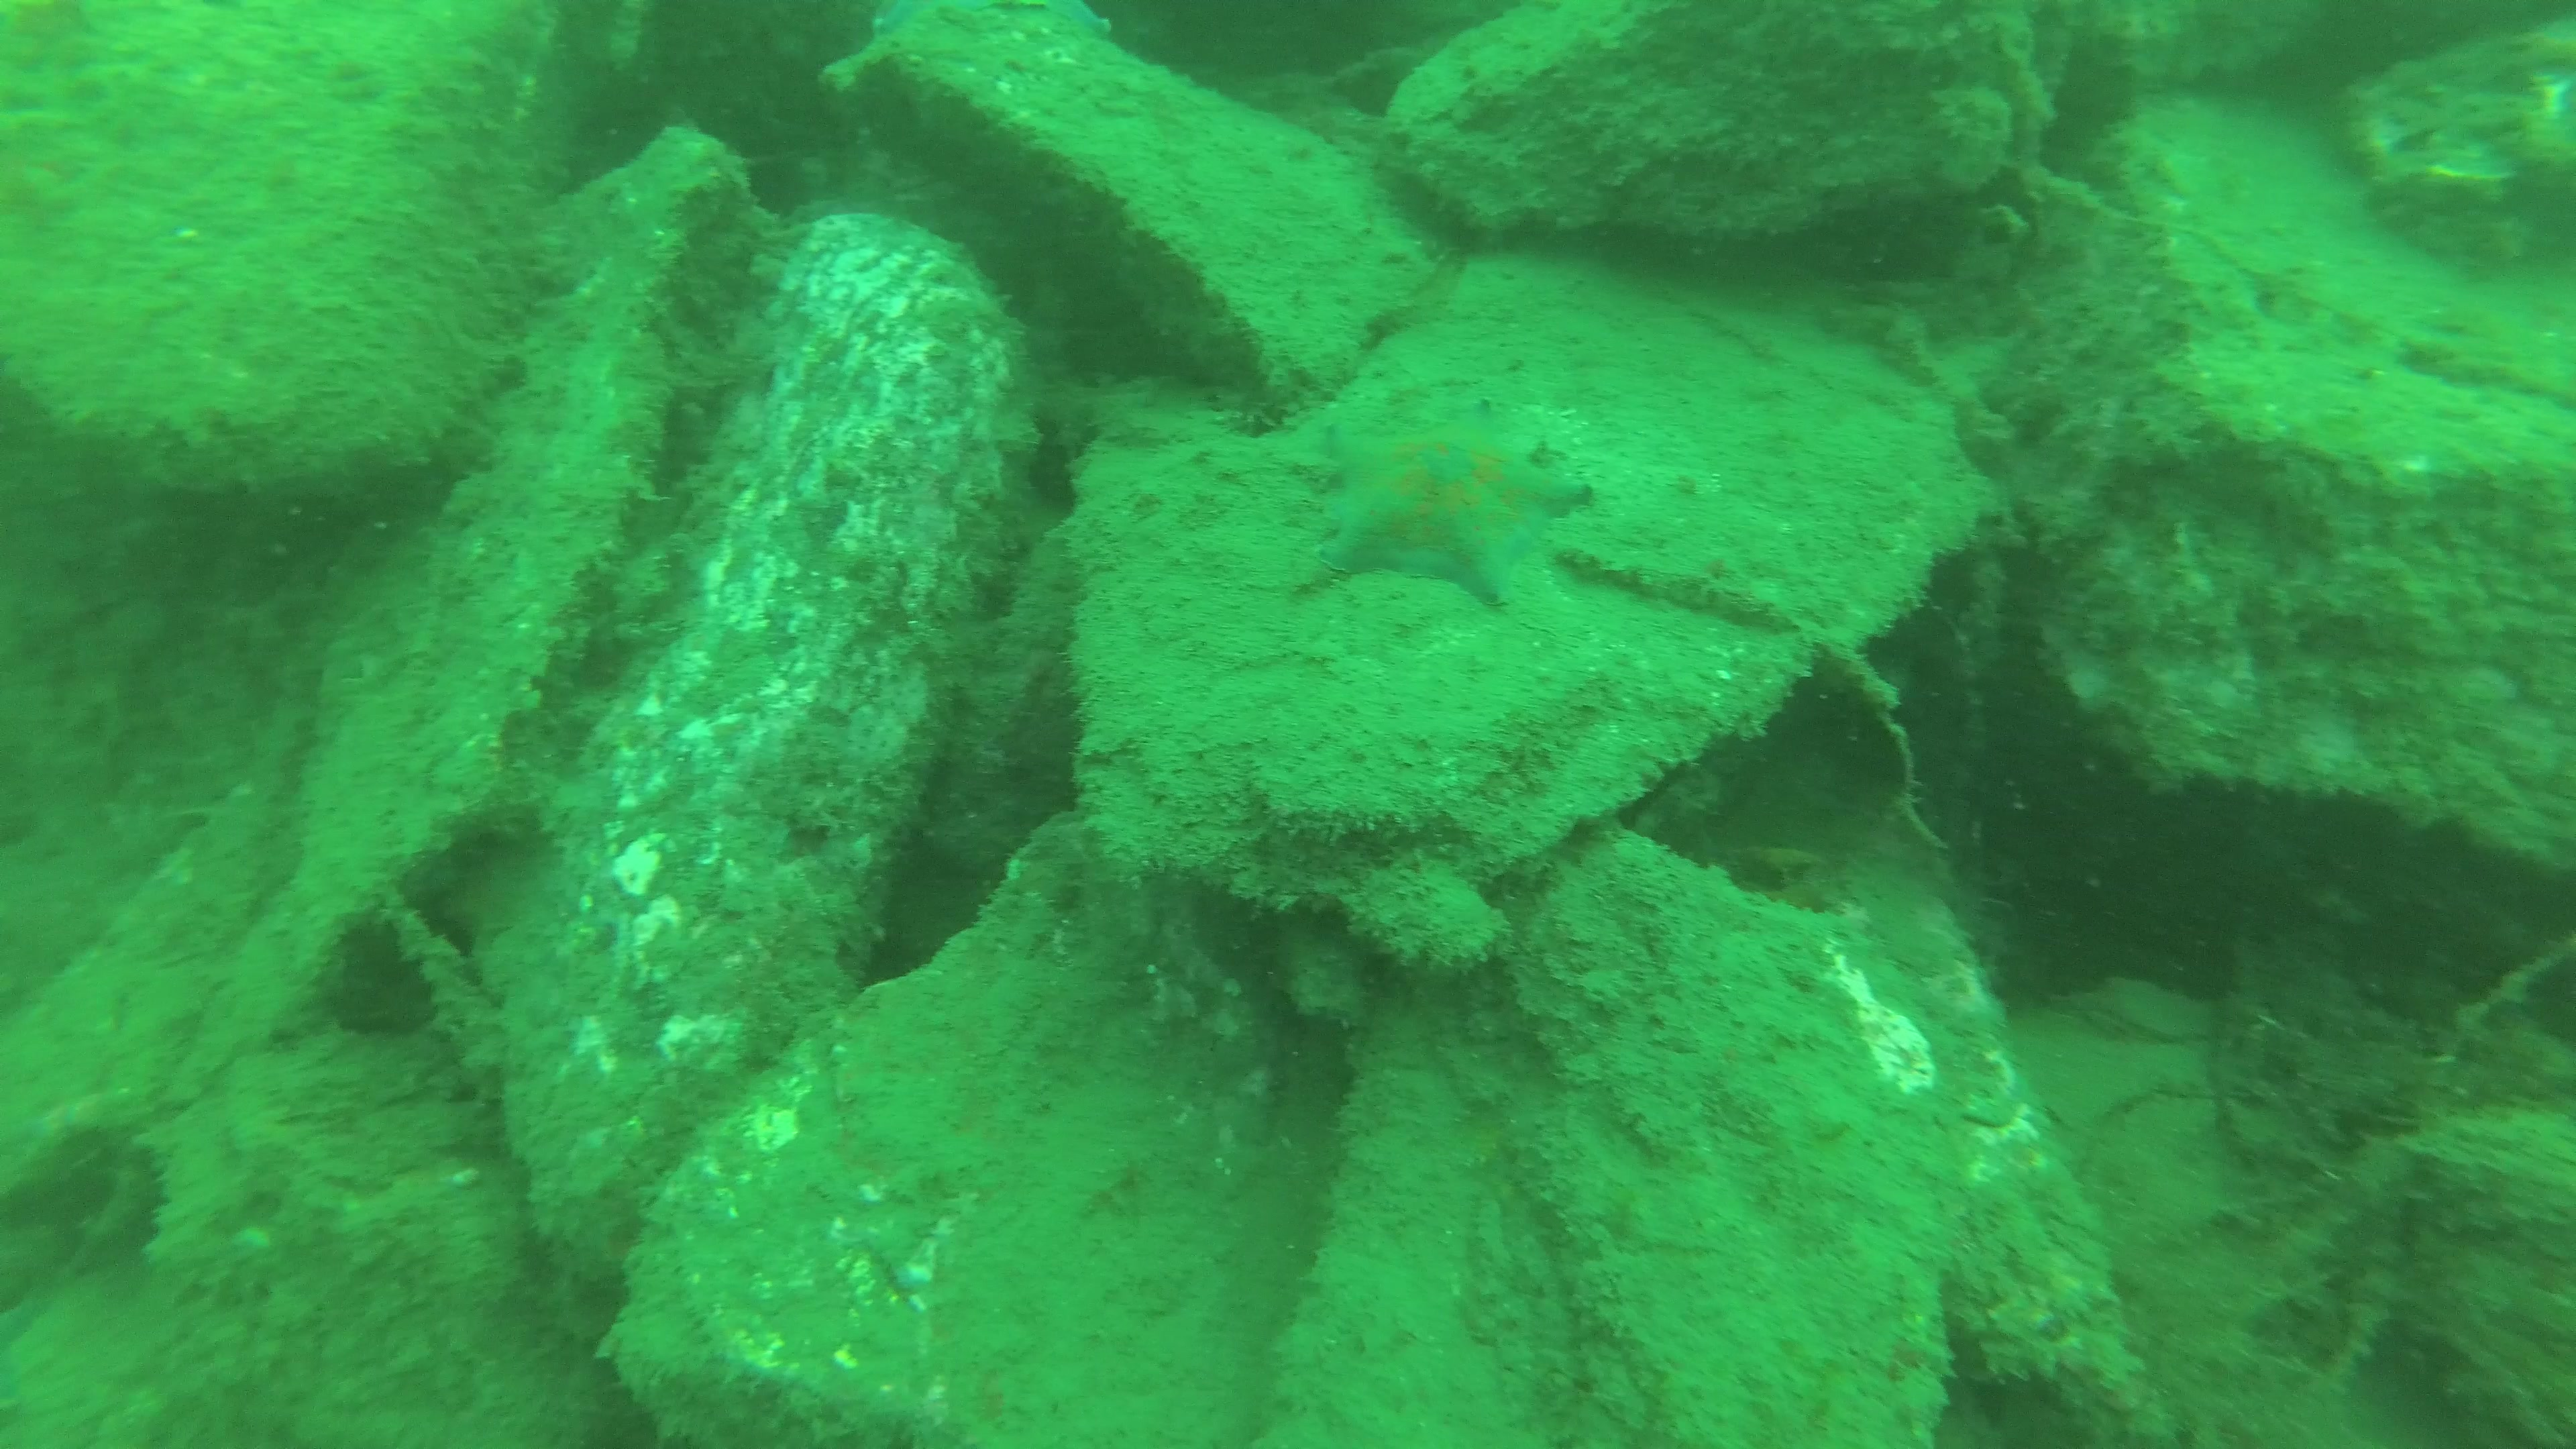starfish: (1292, 400, 1594, 602)
